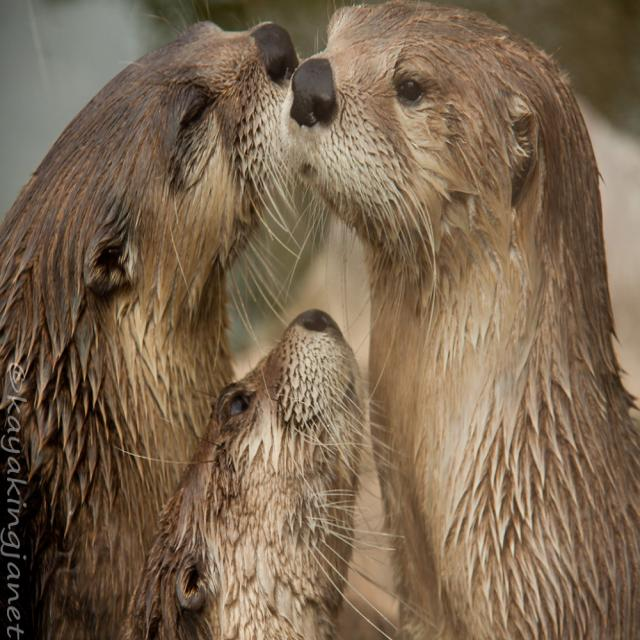otter: (285, 1, 640, 640), (29, 19, 299, 640), (122, 310, 363, 640)
